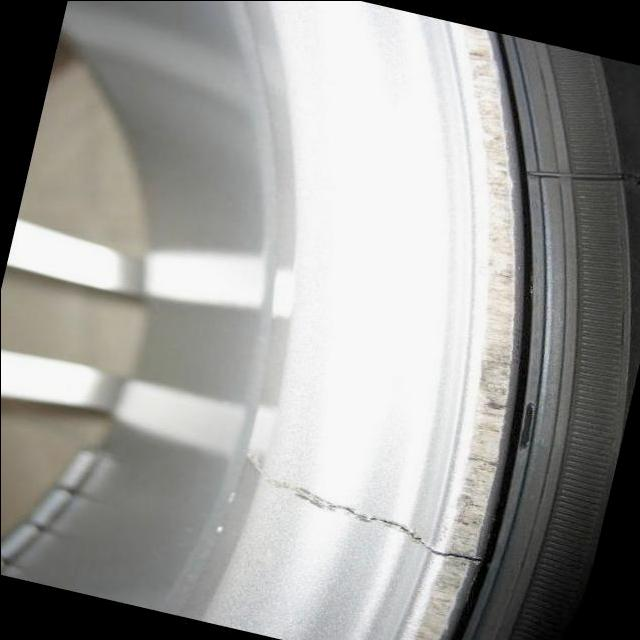defect: (239, 452, 494, 567)
